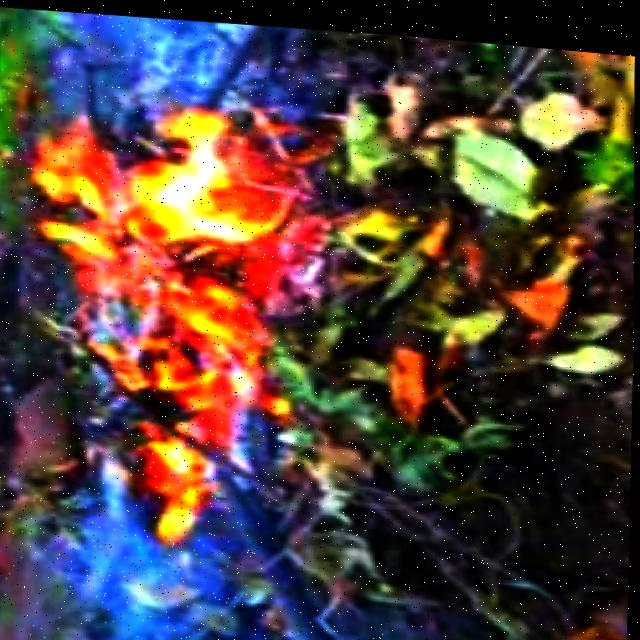Fire: (21, 64, 295, 324), (105, 240, 274, 552)
